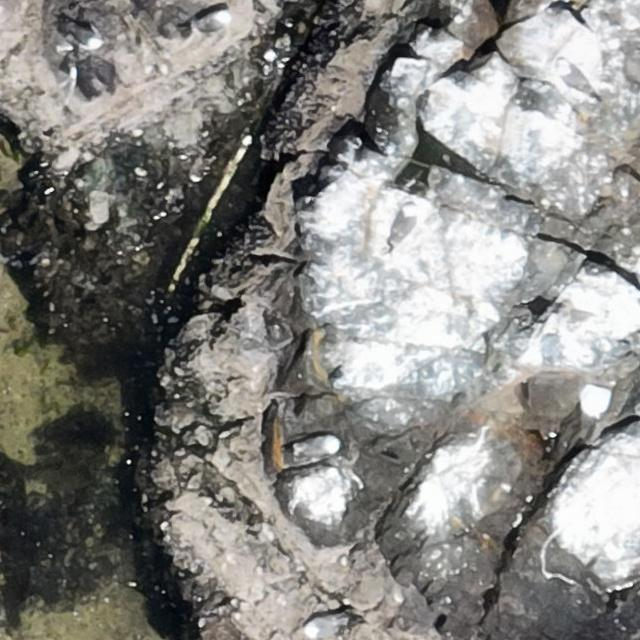umineko: (578, 386, 612, 442), (553, 55, 596, 99), (388, 199, 417, 251), (307, 613, 360, 637), (591, 545, 620, 572), (72, 24, 102, 48), (195, 11, 228, 31), (301, 435, 335, 454)
